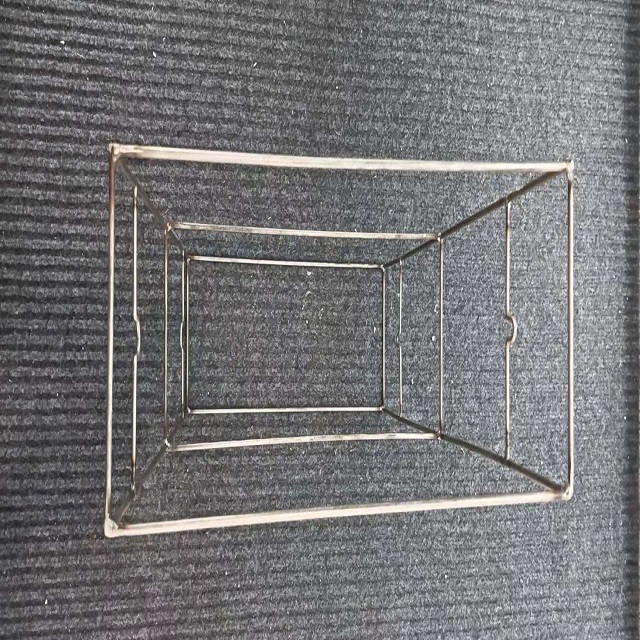curvedhole: (497, 302, 525, 356), (121, 307, 143, 366), (390, 313, 409, 356)
